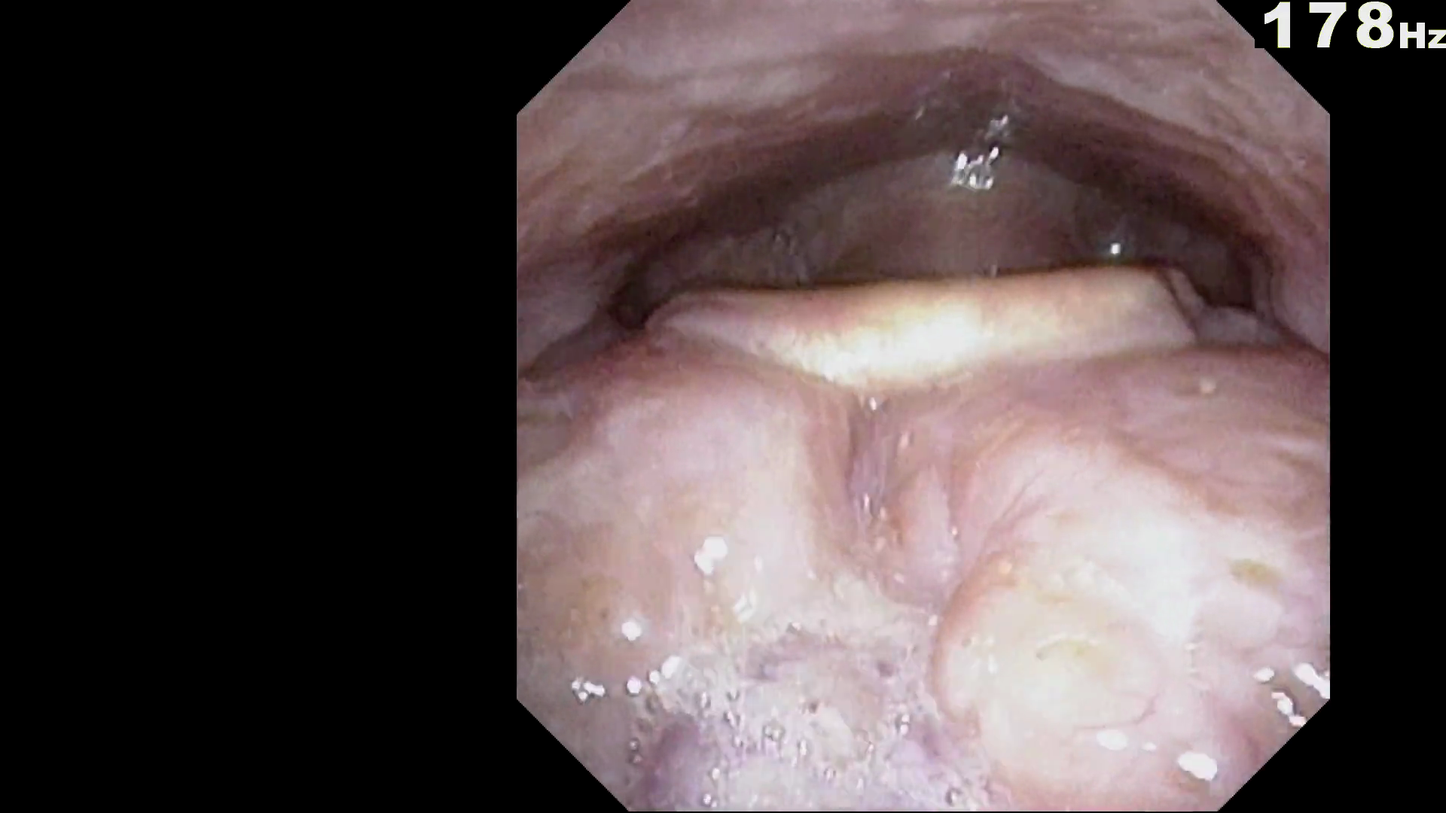epiglottis: (656, 208, 1254, 487)
trachea: (882, 227, 972, 333)
